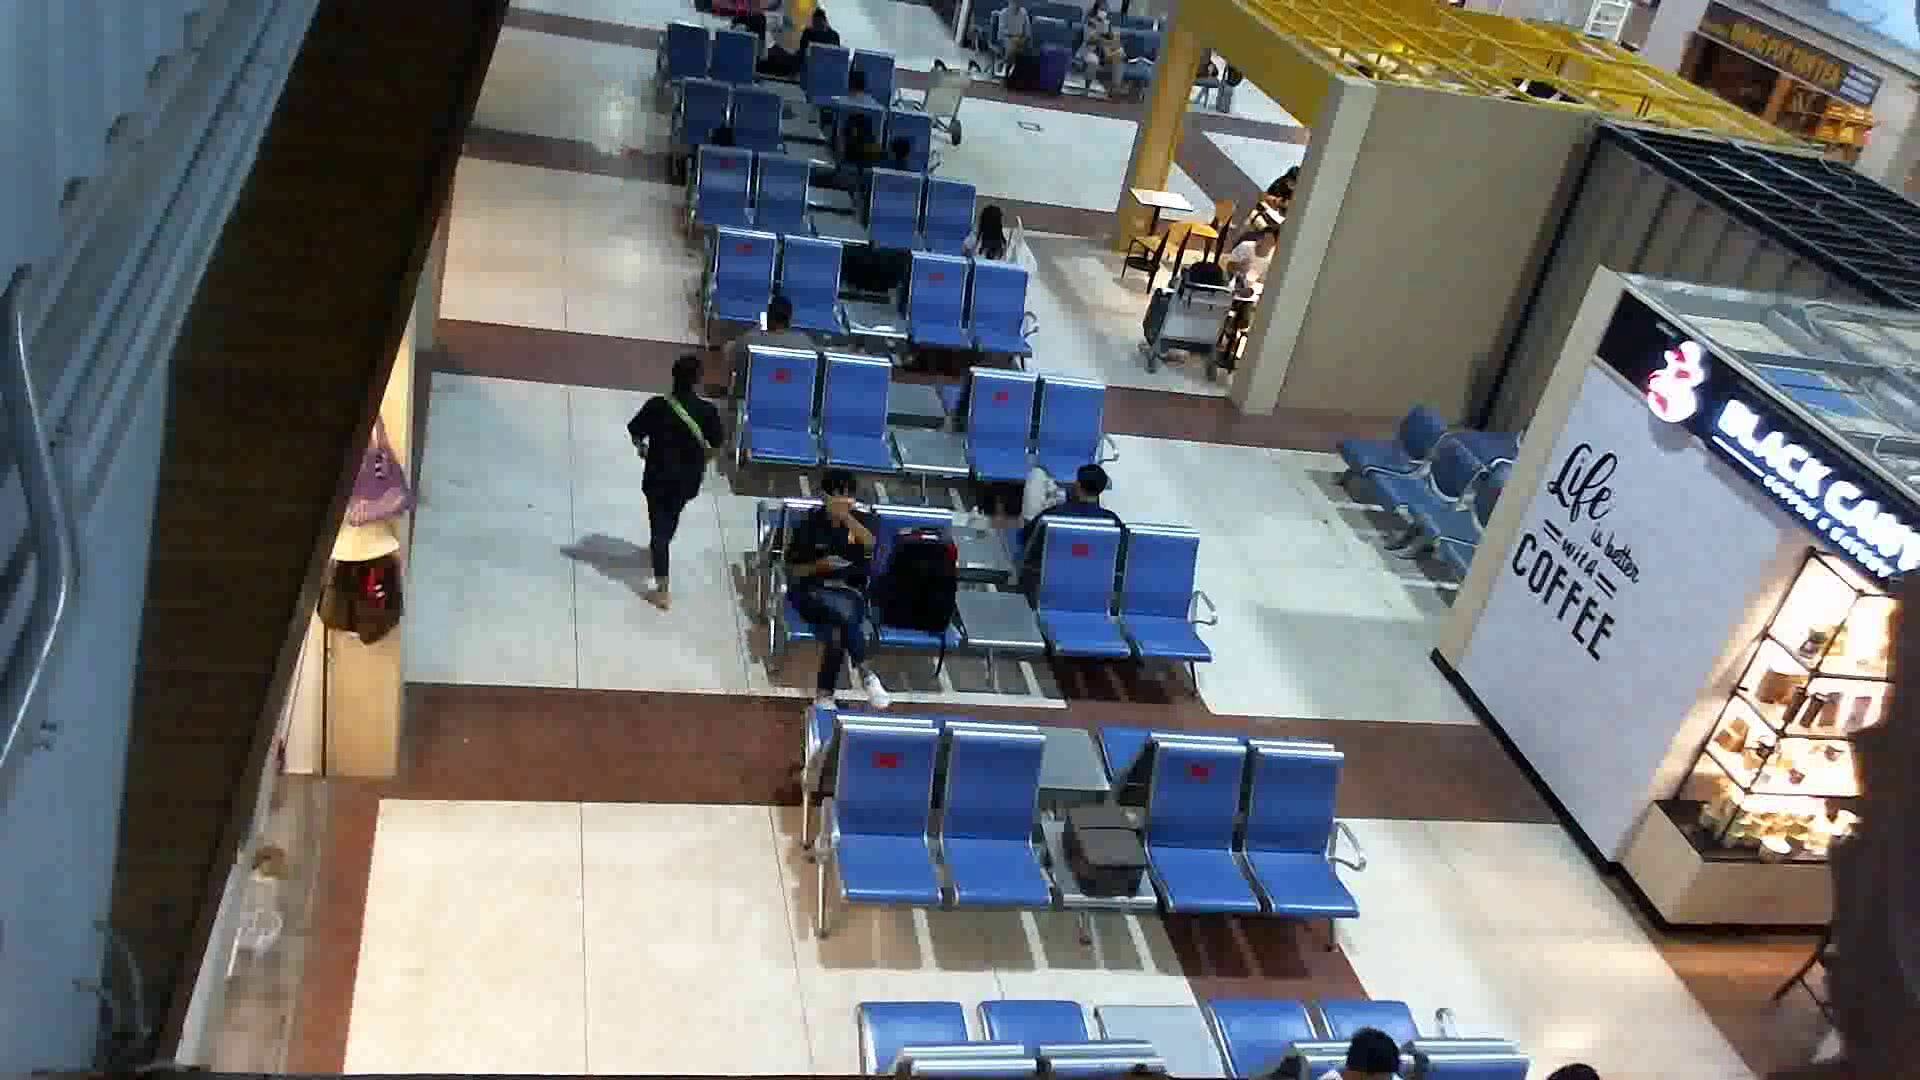luggage: (877, 511, 980, 663), (1058, 794, 1154, 912)
people: (612, 341, 735, 617), (781, 472, 901, 734)
